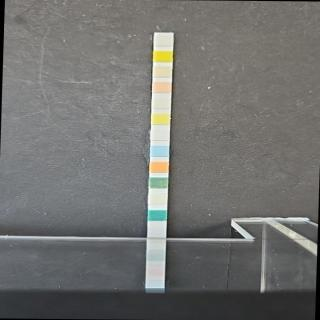mark: (149, 160, 169, 174), (149, 177, 169, 190), (153, 51, 173, 63), (152, 66, 172, 78), (152, 82, 171, 94), (148, 194, 167, 206), (152, 128, 169, 141), (152, 98, 170, 110), (152, 112, 170, 124), (150, 146, 168, 158), (148, 210, 167, 221), (154, 36, 173, 46)
